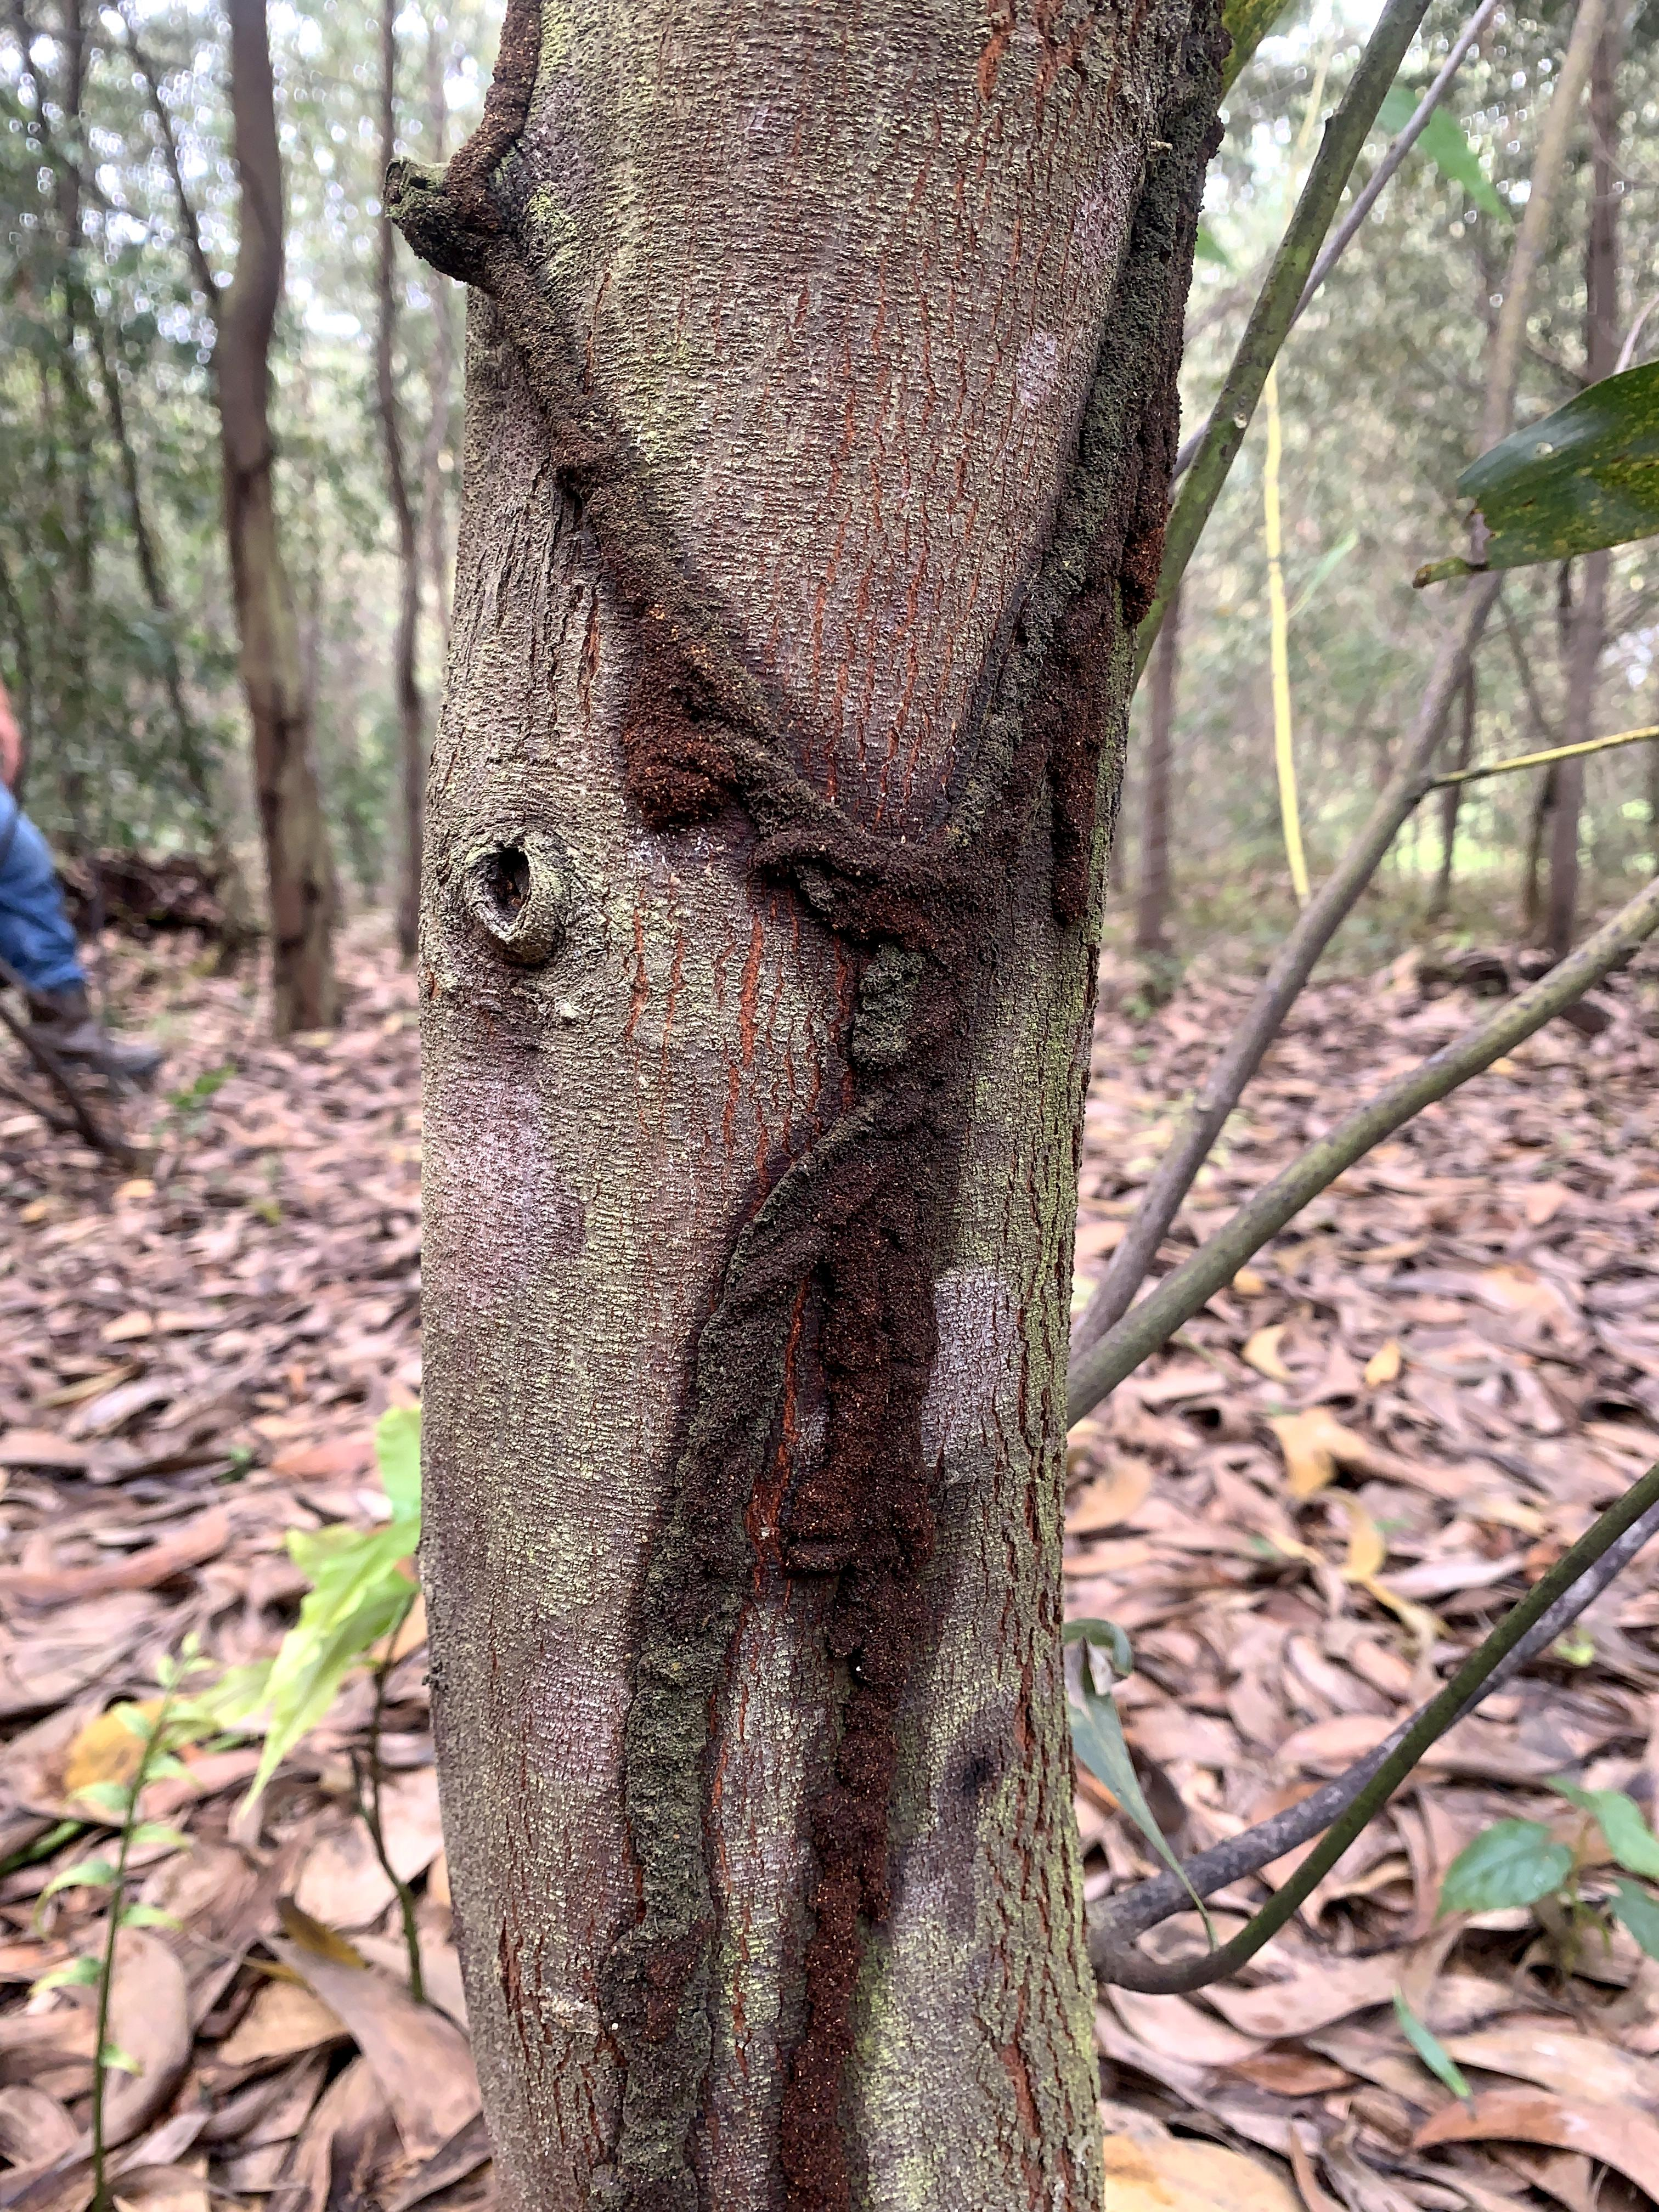Termite - Nest: (556, 819, 1087, 2211), (977, 78, 1241, 767), (435, 193, 762, 741)
